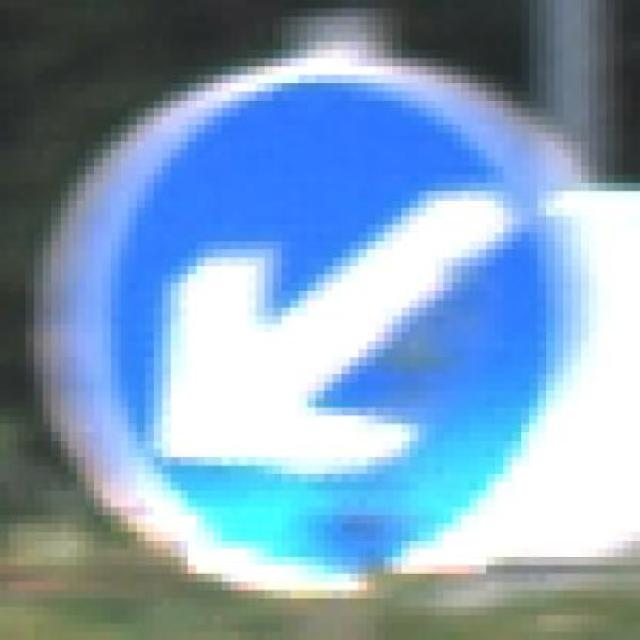Keep-Left: (51, 42, 589, 623)
